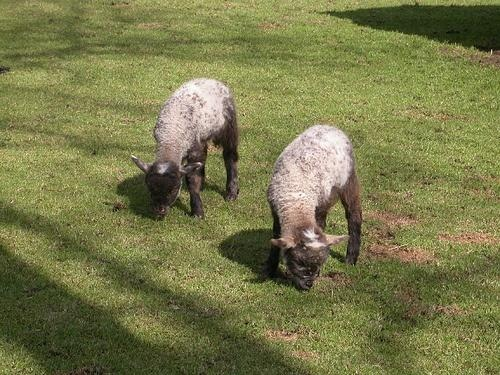sheep: (265, 124, 362, 294), (132, 78, 241, 221)
